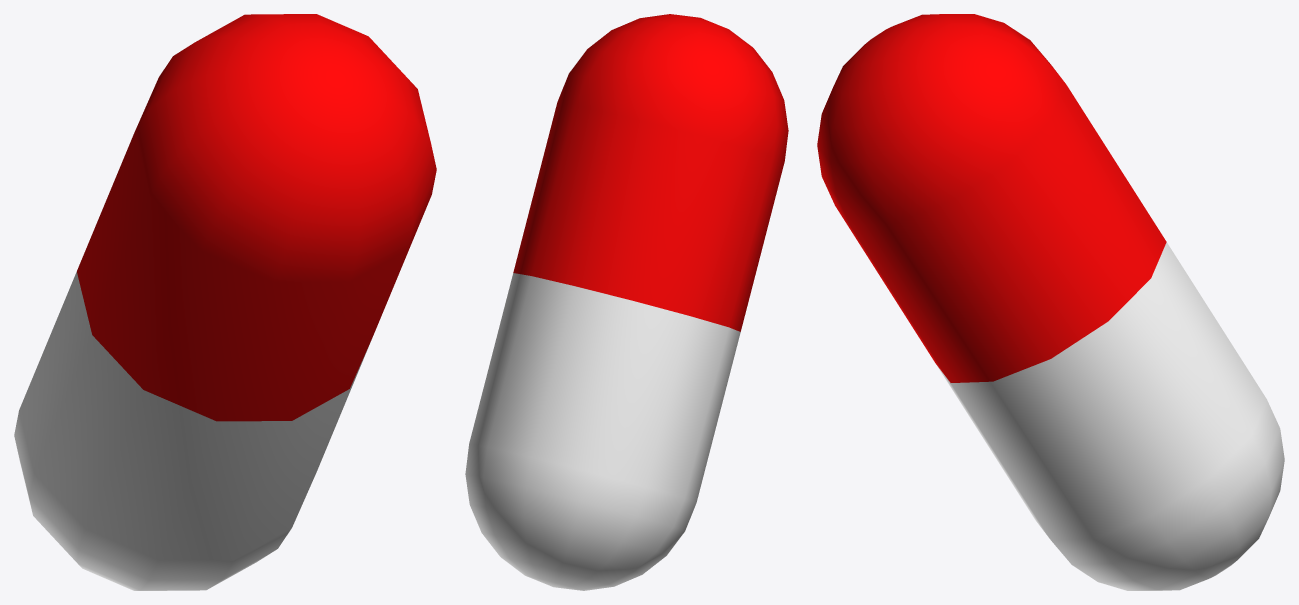
The model's file is pill.FBX.
3 views of the same model, side by side, from view 1: azimuth 30°, elevation 25°; view 2: azimuth 150°, elevation 25°; view 3: azimuth 270°, elevation 25° (orthographic). The views are drawn at different scales.
Parts seen in each view (by area): view 1: Capsule001; view 2: Capsule001; view 3: Capsule001.
Part boxes in pixels (x1,y1,x2,y2): Capsule001: (14,14,436,590); Capsule001: (465,14,788,590); Capsule001: (817,14,1284,590).
Bounding box in the file's own units: 0.4 × 0.9196 × 0.7.
